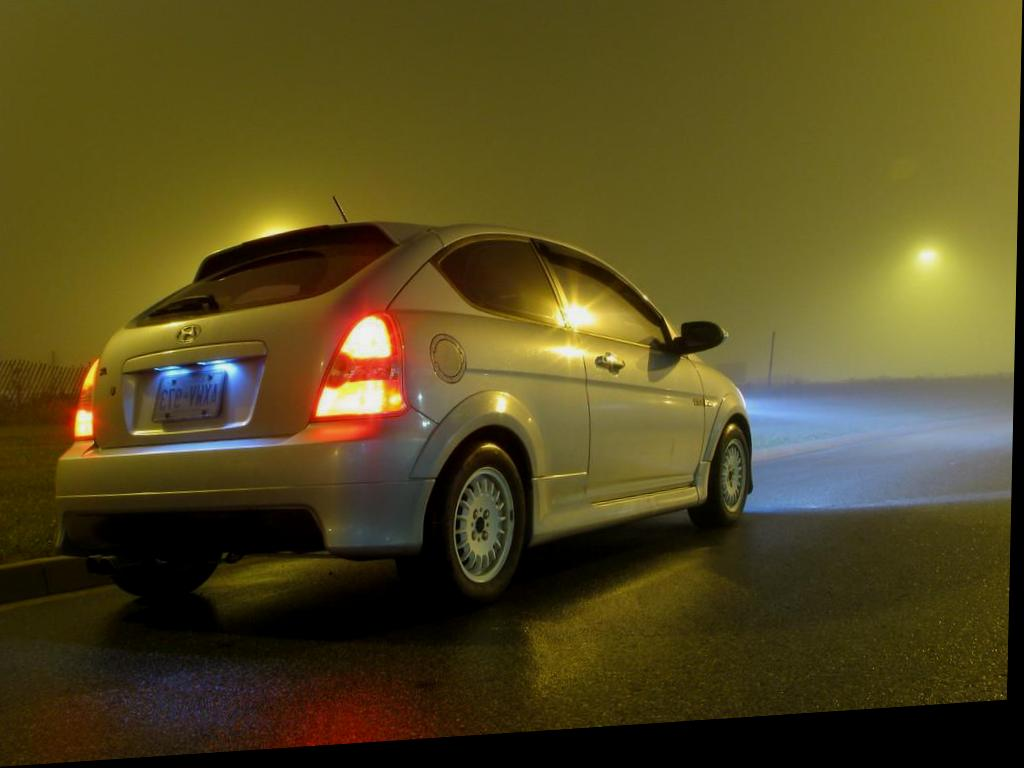License_Plate: (151, 371, 229, 428)
